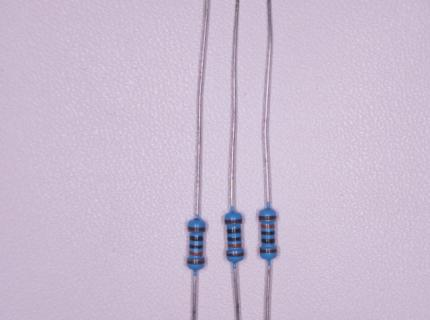Black band: (189, 235, 204, 242), (261, 238, 275, 244), (261, 230, 275, 236), (227, 228, 241, 233), (189, 244, 203, 249), (228, 237, 241, 242)
Brown band: (188, 226, 206, 232), (260, 248, 278, 254), (225, 219, 243, 224), (226, 253, 244, 257), (187, 260, 205, 264), (259, 216, 276, 220)
Orange band: (189, 251, 203, 256), (228, 244, 242, 248), (261, 224, 275, 228)
